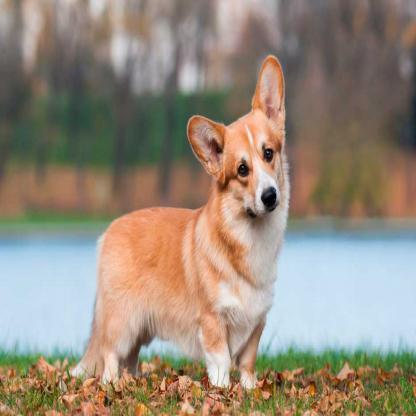Korgi: (85, 54, 293, 397)
